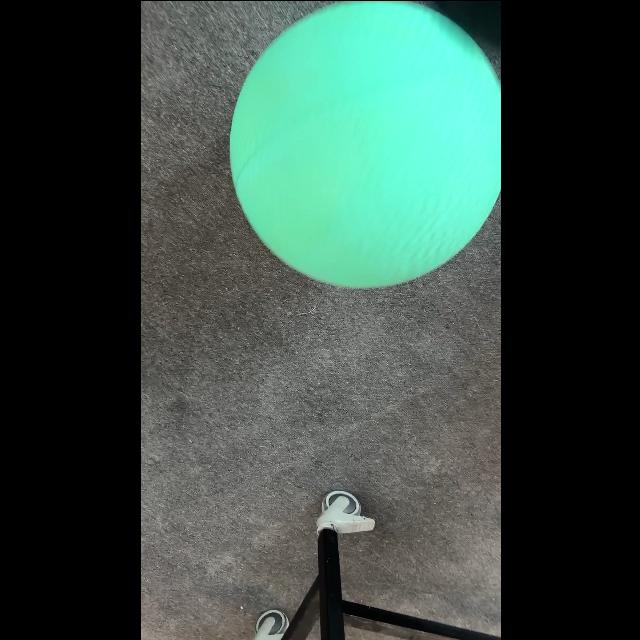ALGAE: (228, 1, 500, 289)
